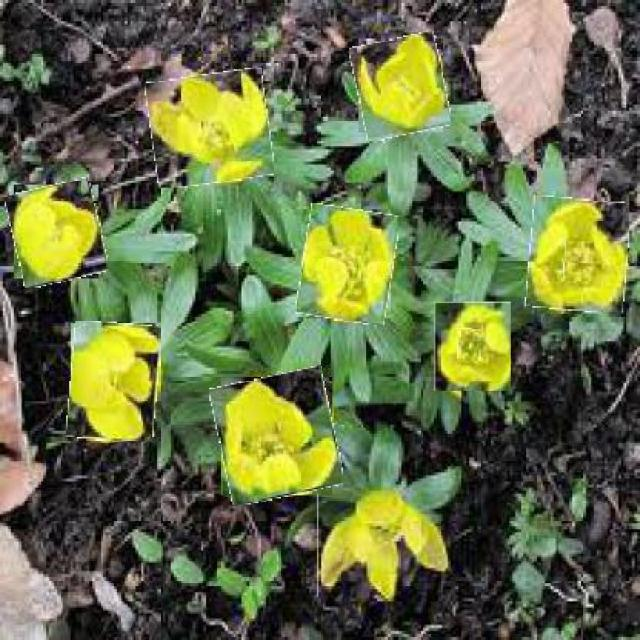Flower: (215, 372, 339, 503), (148, 71, 272, 186), (317, 494, 448, 598), (527, 199, 628, 313), (300, 206, 397, 323), (69, 322, 160, 442), (9, 181, 105, 285), (354, 36, 449, 139), (434, 302, 512, 393), (564, 242, 595, 282), (458, 329, 481, 363)
